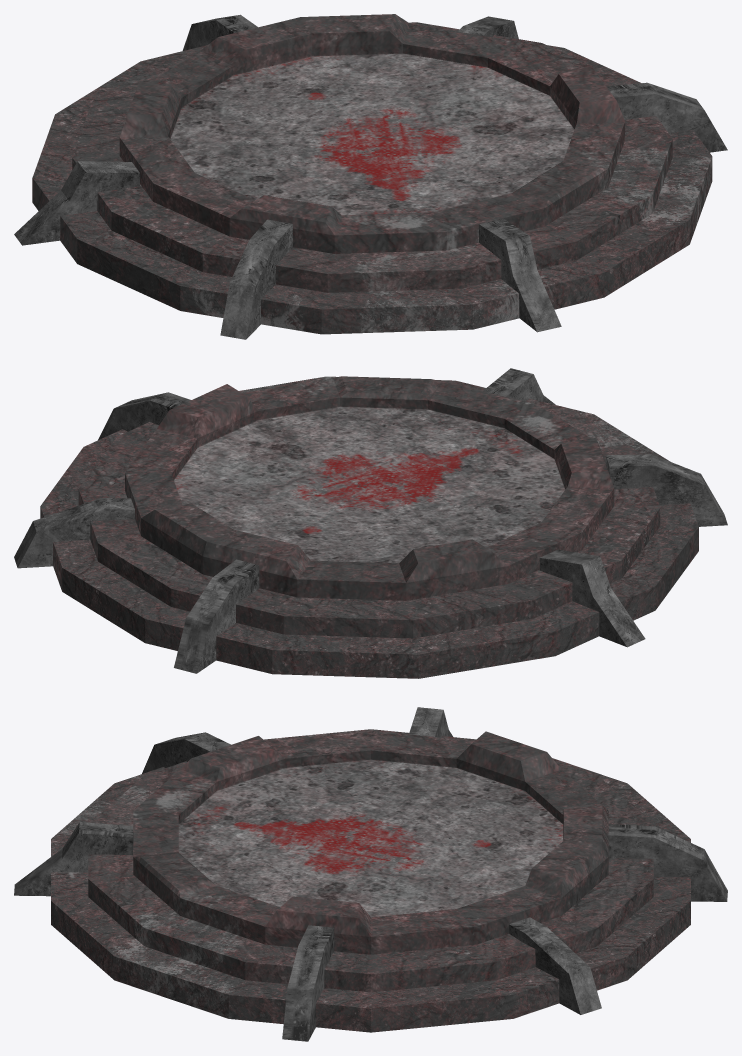
File: Magic_rune_Foundation.fbx
3 views of the same model, one above another, from view 1: azimuth 30°, elevation 25°; view 2: azimuth 150°, elevation 25°; view 3: azimuth 270°, elevation 25° (orthographic). The views are drawn at different scales.
Visible parts, largest first — view 1: Magic_rune_Foundation; view 2: Magic_rune_Foundation; view 3: Magic_rune_Foundation.
Boxes of the visible parts, x1,y1,x2,y2 form: Magic_rune_Foundation: (14,14,727,339); Magic_rune_Foundation: (14,368,727,678); Magic_rune_Foundation: (14,707,727,1041).
Bounding box in the file's own units: 4.42 × 0.5239 × 4.49.
1 material, 1 textured.
